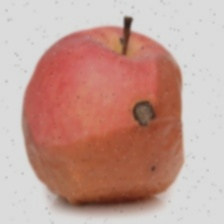apple: (43, 40, 186, 202)
